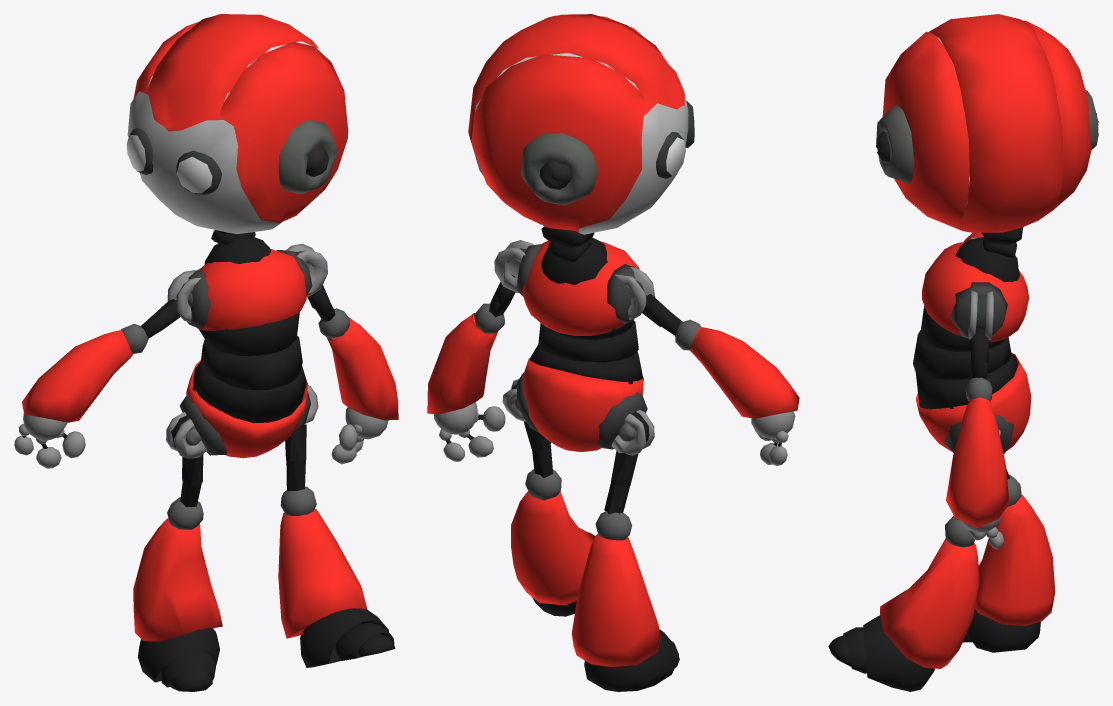
Rendered from robo animated.fbx.
3 renders of one model, left to right at view 1: azimuth 30°, elevation 25°; view 2: azimuth 150°, elevation 25°; view 3: azimuth 270°, elevation 25°, orthographic.
Visible parts, largest first — view 1: belly.002, belly, belly.004, belly.005, belly.003, belly.001; view 2: belly.002, belly, belly.004, belly.005, belly.003, belly.001; view 3: belly.002, belly, belly.005, belly.004, belly.001.
Part boxes in pixels (x1,y1,x2,y2): belly.002: (126, 14, 348, 233); belly: (180, 230, 312, 458); belly.004: (133, 412, 222, 691); belly.005: (278, 385, 395, 667); belly.003: (14, 270, 201, 468); belly.001: (286, 243, 398, 464); belly.002: (468, 14, 694, 234); belly: (516, 226, 647, 451); belly.004: (571, 410, 679, 691); belly.005: (502, 379, 594, 616); belly.003: (615, 267, 799, 465); belly.001: (427, 240, 533, 461); belly.002: (876, 14, 1098, 232); belly: (913, 227, 1031, 453); belly.005: (828, 430, 1000, 691); belly.004: (962, 469, 1055, 652); belly.001: (946, 290, 1009, 549).
Size of the model in its own units: 206 by 340 by 130.
